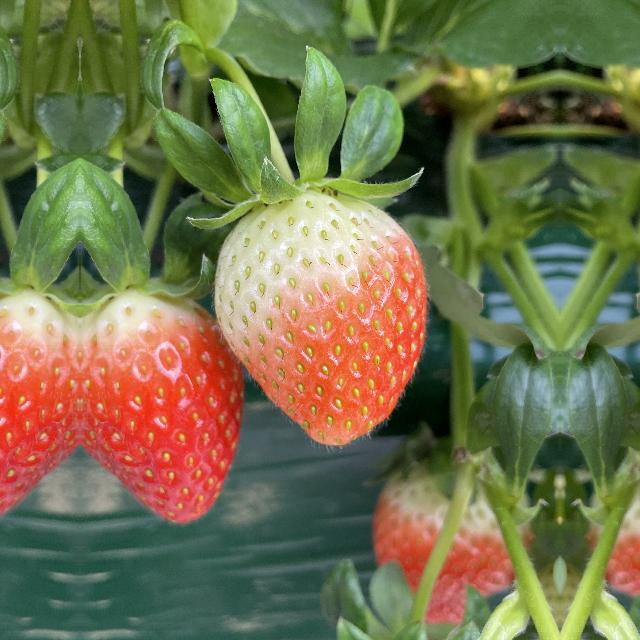Health_100: (83, 278, 247, 532), (0, 278, 77, 531)
Health_75: (205, 184, 435, 456), (365, 468, 553, 624), (567, 467, 640, 624)
